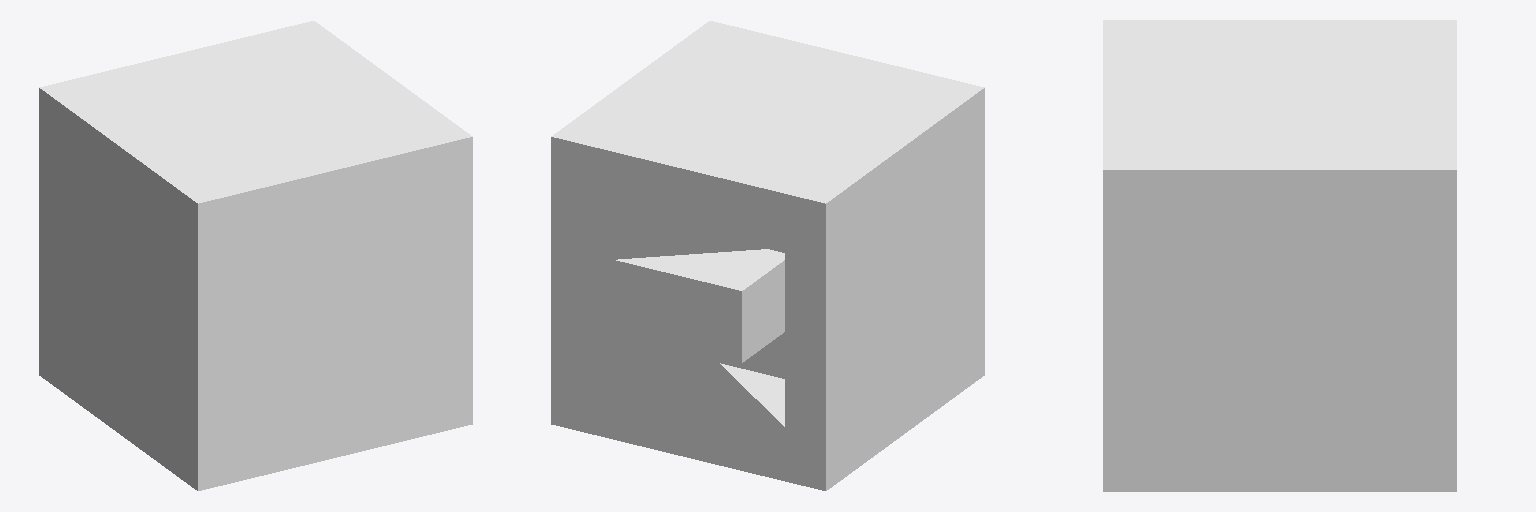
URDF robot description (U_cube_bottle):
<?xml version="1.0" ?>
<robot name="U_cube_bottle">
  <link name="baseLink">
    <contact>
    	<friction_anchor/>
    	   <lateral_friction value="1.0"/>
    </contact>
    <inertial>
      <origin rpy="0 0 0" xyz="0 0 0"/>
       <!-- mass controls penetration -->
       <mass value=".5"/>
       <inertia ixx="1e-4" ixy="0" ixz="0" iyy="1e-4" iyz="0" izz="1e-4"/>
    </inertial>
    <visual>
      <origin rpy="0 0 0" xyz="0 0 0"/>
      <geometry>
        <mesh filename="U_cube_bottle.obj"/>
      </geometry>
       <material name="white">
        <color rgba="1 1 1 1"/>
      </material>
    </visual>
    <collision>
      <origin rpy="0 0 0" xyz="0 0 0"/>
      <geometry>
        <mesh filename="U_cube_bottle.obj"/>
      </geometry>
    </collision>
  </link>
</robot>

--- What the picture shows (computed from the rendered views, not written in the file) ---
3 views of the same robot in one strip: view 1: azimuth 30°, elevation 25°; view 2: azimuth 150°, elevation 25°; view 3: azimuth 270°, elevation 25° (orthographic).
Model U_cube_bottle with 1 links and 0 joints (none), rooted at baseLink, posed all joints at 0.
Visible links, largest first — view 1: baseLink; view 2: baseLink; view 3: baseLink.
Boxes of the visible links, x1,y1,x2,y2 form: baseLink: (39, 21, 472, 490); baseLink: (551, 21, 984, 490); baseLink: (1103, 20, 1456, 491).
Size in the robot's own frame: 0.08 by 0.08 by 0.08 metres.
1 mesh visuals loaded from 1 distinct referenced files (1 OBJ).